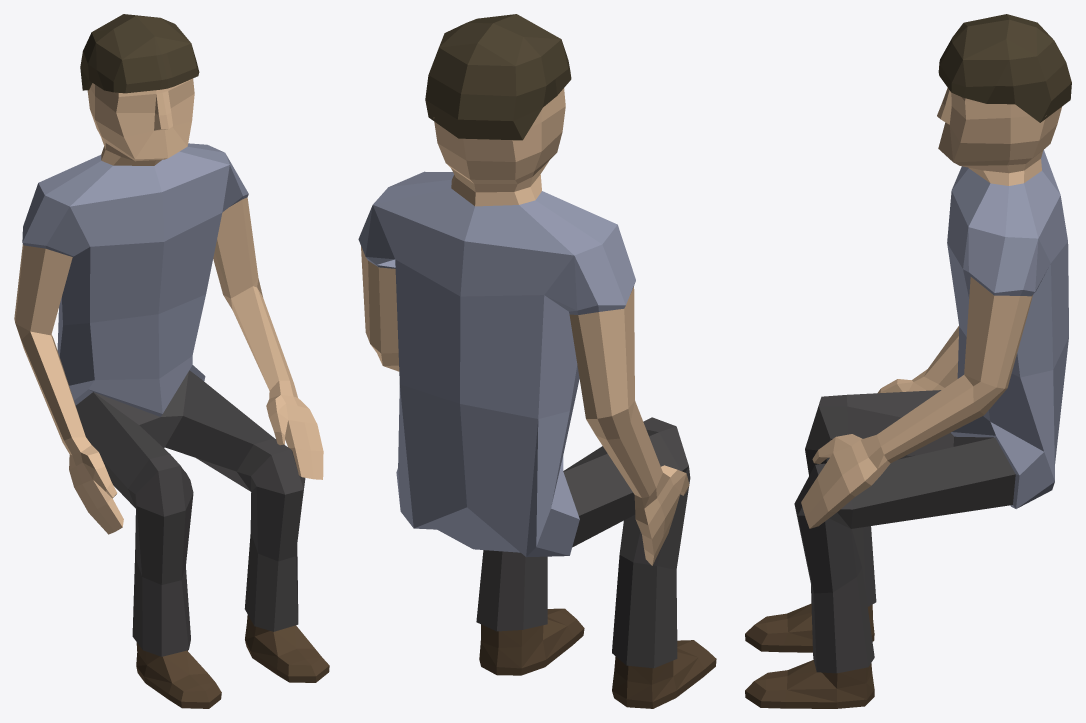
File: Male_Sitting.glb
The picture shows the model from 3 angles, left to right: view 1: azimuth 30°, elevation 25°; view 2: azimuth 150°, elevation 25°; view 3: azimuth 270°, elevation 25°; orthographic projection. The views are drawn at different scales.
Parts seen in each view (by area): view 1: Male_Sitting; view 2: Male_Sitting; view 3: Male_Sitting.
Boxes of the visible parts, box(x1,y1,x2,y2) form: Male_Sitting: box(14, 14, 329, 708); Male_Sitting: box(358, 14, 716, 708); Male_Sitting: box(745, 14, 1071, 708).
Bounding box in the file's own units: 0.5818 × 1.46 × 0.6667.
